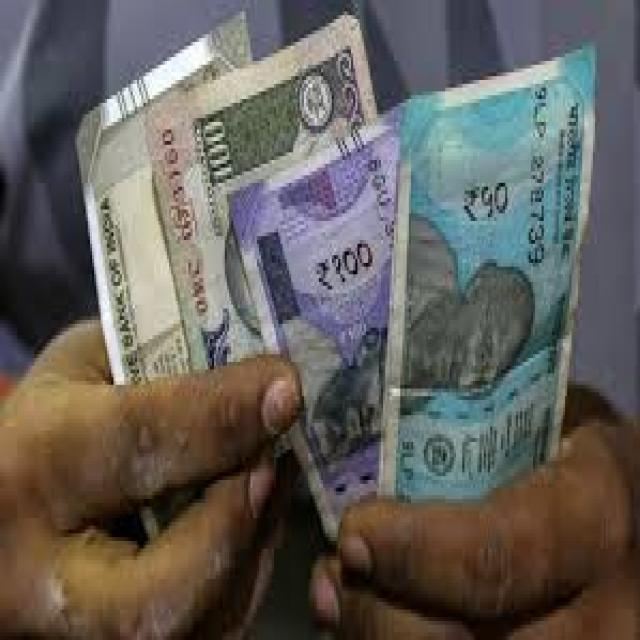money: (388, 31, 592, 530)
